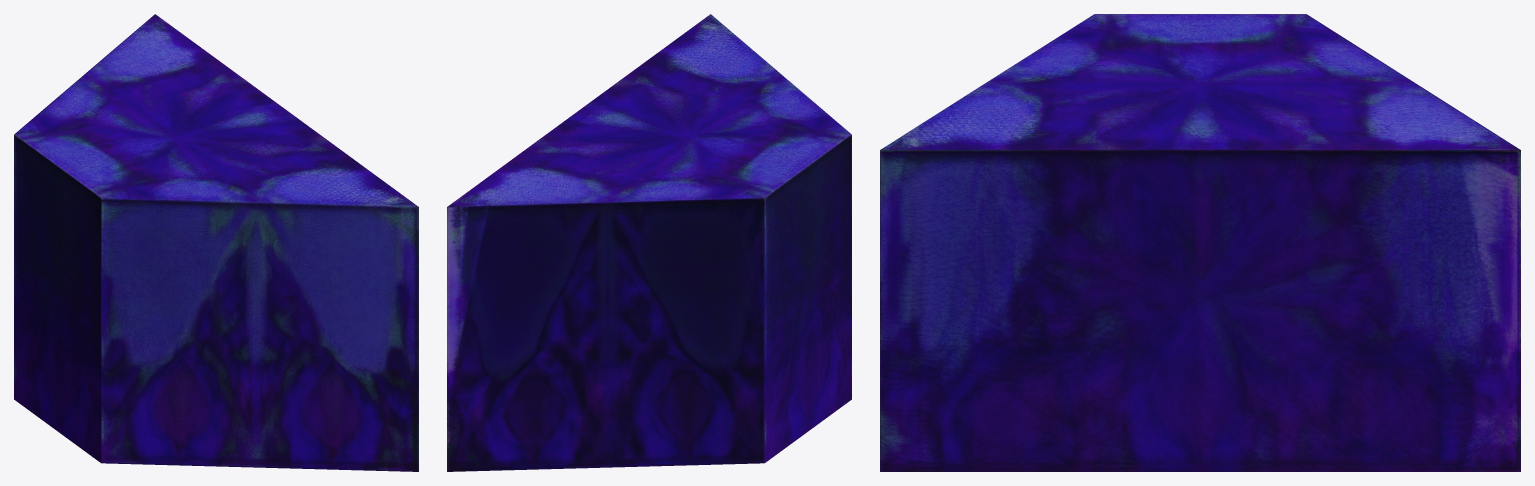
File: quadri_right_cible_lvl_2.glb
3 views of the same model, side by side, from view 1: azimuth 30°, elevation 25°; view 2: azimuth 150°, elevation 25°; view 3: azimuth 270°, elevation 25° (orthographic). The views are drawn at different scales.
Parts seen in each view (by area): view 1: Mesh_0.002; view 2: Mesh_0.002; view 3: Mesh_0.002.
Boxes of the visible parts, box(x1,y1,x2,y2) form: Mesh_0.002: box(14, 14, 418, 471); Mesh_0.002: box(447, 14, 851, 471); Mesh_0.002: box(880, 14, 1520, 471).
Bounding box in the file's own units: 0.0778 × 0.0859 × 0.1548.
Materials: 1 (1 with a texture image).
